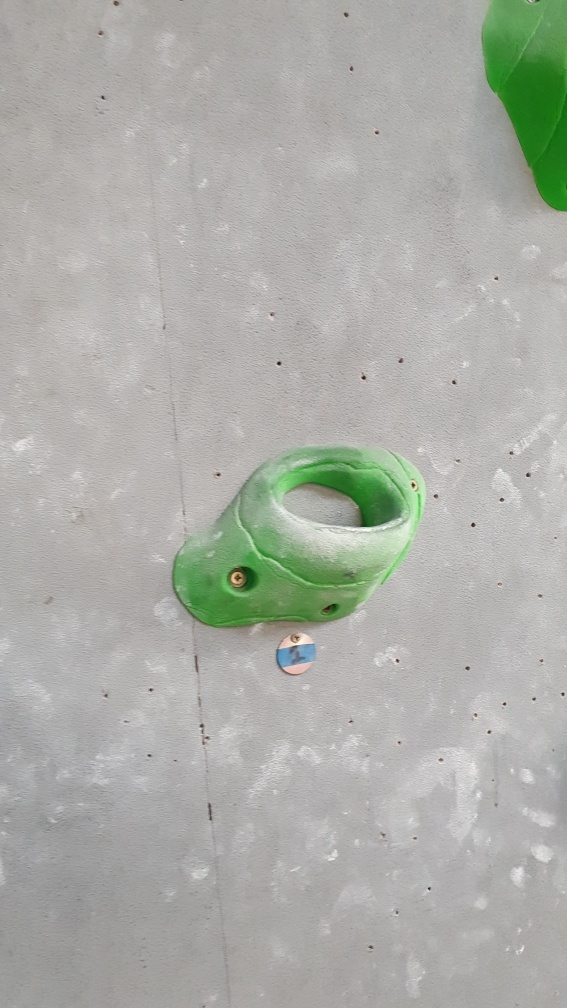Hand Start: (267, 627, 322, 679)
Pocket: (167, 440, 429, 629)
